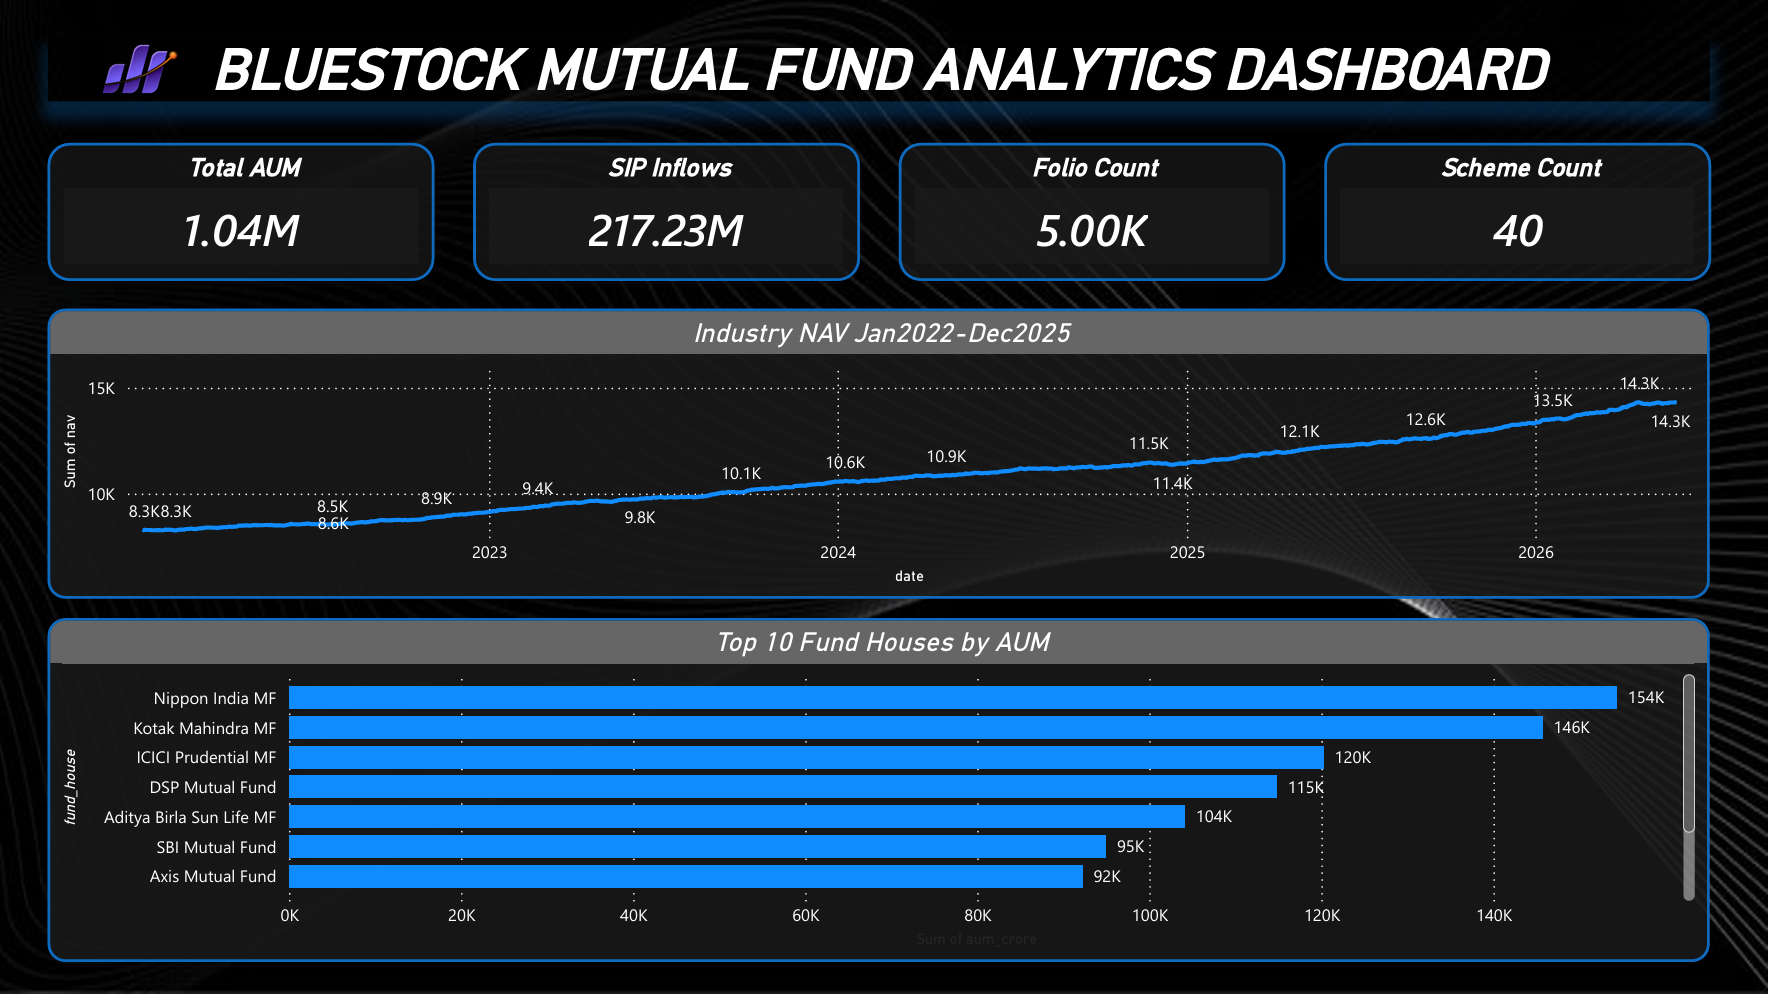

The dashboard page shown, as its layout file describes it:
{"tool":"powerbi","page":{"name":"Industry Overview","canvas":[1280,720],"ordinal":0},"visuals":[{"type":"image","box":[0,0,1280,720.4],"z":0},{"type":"cardVisual","title":"Total AUM","fields":{"Data":["clean_performance.Total AUM"]},"box":[35.5,103.9,280,100.3],"z":1000},{"type":"cardVisual","title":"SIP Inflows","fields":{"Data":["clean_transactions.SIP Inflows"]},"box":[343.3,104.3,280,100.2],"z":2000},{"type":"cardVisual","title":"Folio Count ","fields":{"Data":["clean_transactions.Folio Count"]},"box":[651.1,103.9,280,100.3],"z":3000},{"type":"cardVisual","title":"Scheme Count","fields":{"Data":["fund_scorecard.Scheme Count"]},"box":[958.9,103.9,280,100.3],"z":4000},{"type":"lineChart","title":"Industry NAV Jan2022-Dec2025","fields":{"Category":["clean_nav.date"],"Y":["Sum(clean_nav.nav)"]},"box":[35,223.8,1203.1,209.8],"z":5000},{"type":"clusteredBarChart","title":"Top 10 Fund Houses by AUM","fields":{"Category":["clean_performance.fund_house"],"Y":["Sum(clean_performance.aum_crore)"]},"box":[35,447.7,1203.1,249],"z":6000},{"type":"textbox","title":"BLUESTOCK MUTUAL FUND ANALYTICS DASHBOARD","box":[35,26.6,1203.1,47.6],"z":8000},{"type":"image","box":[35,18.2,130.1,64.3],"z":9000}]}

Visuals, with their boxes in screenshot pixels (x1, y1, x2, y2), scaled from the page's 1280x720 canvas onto the 1770x994 screenshot:
image: region(0, 0, 1769, 993)
"Total AUM" cardVisual: region(49, 143, 436, 282)
"SIP Inflows" cardVisual: region(475, 144, 862, 282)
"Folio Count " cardVisual: region(900, 143, 1288, 282)
"Scheme Count" cardVisual: region(1326, 143, 1713, 282)
"Industry NAV Jan2022-Dec2025" lineChart: region(48, 309, 1712, 599)
"Top 10 Fund Houses by AUM" clusteredBarChart: region(48, 618, 1712, 962)
"BLUESTOCK MUTUAL FUND ANALYTICS DASHBOARD" textbox: region(48, 37, 1712, 102)
image: region(48, 25, 228, 114)
